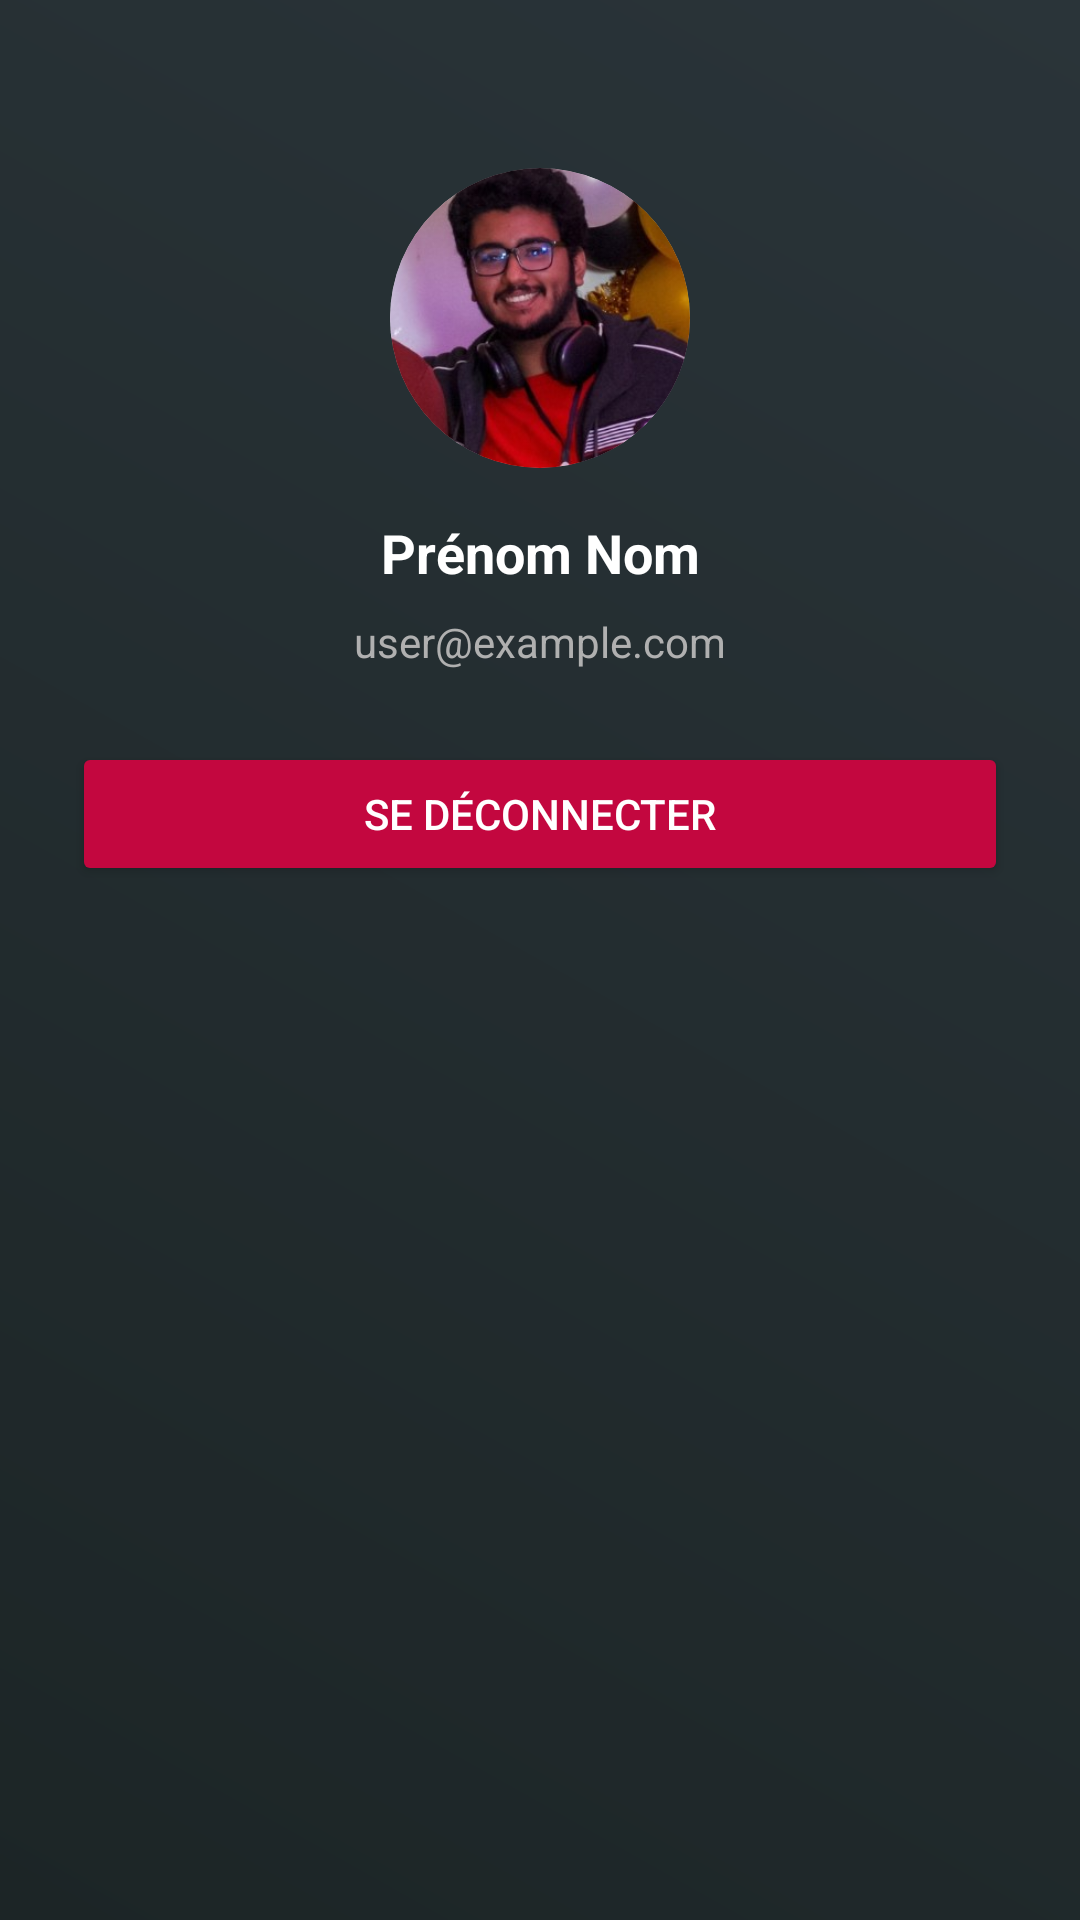

Where to tap for icons on this 1080px×1920px app screen, as point (x, y):
Avatar utilisateur: point (540, 318)
